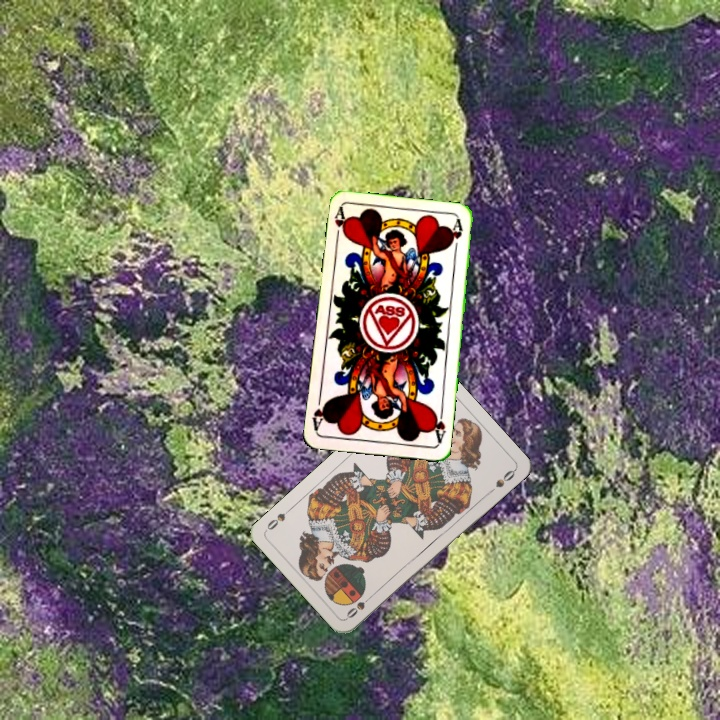HA: (428, 405, 448, 446), (330, 204, 350, 245)
SO: (342, 590, 376, 621)
